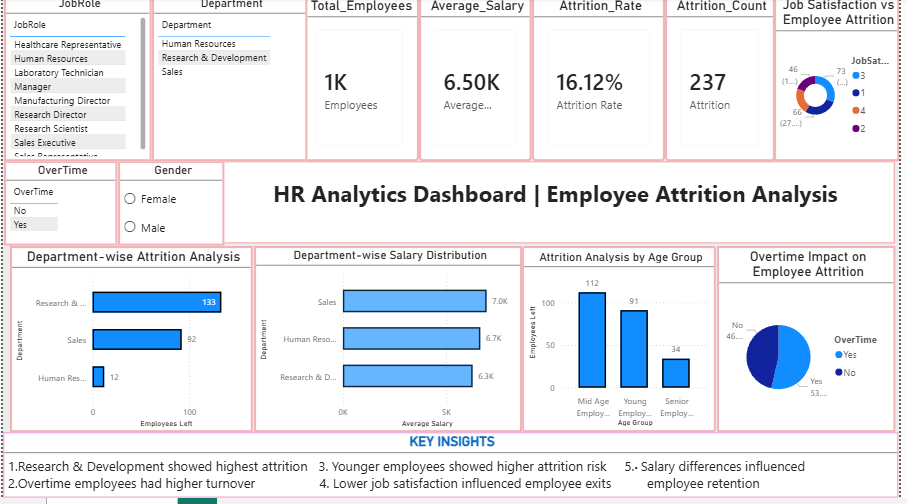

What the dashboard file says about the page in this screenshot:
{"tool":"powerbi","page":{"name":"Main Dashboard","canvas":[1280,720],"ordinal":0},"visuals":[{"type":"cardVisual","title":"Total_Employees","fields":{"Data":["Employee_Attrition.Total Employees"]},"box":[424.4,0,169.8,238.5],"z":0},{"type":"cardVisual","title":"Average_Salary","fields":{"Data":["Employee_Attrition.Average Salary"]},"box":[594.1,0,161,238.5],"z":1000},{"type":"cardVisual","title":"Attrition_Count","fields":{"Data":["Employee_Attrition.Attrition Count"]},"box":[945.4,0,156.6,238.5],"z":2000},{"type":"cardVisual","title":"Attrition_Rate","fields":{"Data":["Employee_Attrition.Attrition Rate"]},"box":[755.1,0,190.2,238.5],"z":3000},{"type":"textbox","box":[304.4,238.5,970,118],"z":4000},{"type":"clusteredBarChart","title":"Department-wise Attrition Analysis","fields":{"Category":["Employee_Attrition.Department"],"Y":["Employee_Attrition.Employees Left"]},"box":[10.2,360,346.8,266.3],"z":5000},{"type":"pieChart","title":"Overtime Impact on Employee Attrition","fields":{"Category":["Employee_Attrition.OverTime"],"Y":["Employee_Attrition.Employees Left"]},"box":[1020,360,254.6,266.3],"z":6000},{"type":"clusteredColumnChart","title":"Attrition Analysis by Age Group","fields":{"Category":["Employee_Attrition.Age Group"],"Y":["Employee_Attrition.Employees Left"]},"box":[742,360,276.6,266.3],"z":7000},{"type":"donutChart","title":"Job Satisfaction vs Employee Attrition","fields":{"Category":["Employee_Attrition.JobSatisfaction"],"Y":["Employee_Attrition.Employees Left"]},"box":[1102,0,178.5,238.5],"z":8000},{"type":"clusteredBarChart","title":"Department-wise Salary Distribution","fields":{"Category":["Employee_Attrition.Department"],"Y":["Employee_Attrition.Average Salary"]},"box":[358.5,360,383.4,266.3],"z":9000},{"type":"listSlicer","fields":{"Values":["Employee_Attrition.Gender"]},"box":[163.9,238.5,152.2,121],"z":10000},{"type":"tableEx","title":"Department","fields":{"Values":["Employee_Attrition.Department"]},"box":[212.2,0,222,238.5],"z":11000},{"type":"tableEx","title":"OverTime","fields":{"Values":["Employee_Attrition.OverTime"]},"box":[1.5,238.5,162.4,121.5],"z":12000},{"type":"tableEx","title":"JobRole","fields":{"Values":["Employee_Attrition.JobRole"]},"box":[1.5,0,210.7,238.5],"z":13000},{"type":"textbox","title":"KEY INSIGHTS","box":[0,626.3,1279,93.7],"z":14000}]}

Visuals, with their boxes in screenshot pixels (x1, y1, x2, y2), scaled from the page's 1280x720 canvas onto the 907x504 screenshot:
"Total_Employees" cardVisual: detection(301, 0, 421, 167)
"Average_Salary" cardVisual: detection(421, 0, 535, 167)
"Attrition_Count" cardVisual: detection(670, 0, 781, 167)
"Attrition_Rate" cardVisual: detection(535, 0, 670, 167)
textbox: detection(216, 167, 903, 250)
"Department-wise Attrition Analysis" clusteredBarChart: detection(7, 252, 253, 438)
"Overtime Impact on Employee Attrition" pieChart: detection(723, 252, 903, 438)
"Attrition Analysis by Age Group" clusteredColumnChart: detection(526, 252, 722, 438)
"Job Satisfaction vs Employee Attrition" donutChart: detection(781, 0, 906, 167)
"Department-wise Salary Distribution" clusteredBarChart: detection(254, 252, 526, 438)
listSlicer - Employee_Attrition.Gender: detection(116, 167, 224, 252)
"Department" tableEx: detection(150, 0, 308, 167)
"OverTime" tableEx: detection(1, 167, 116, 252)
"JobRole" tableEx: detection(1, 0, 150, 167)
"KEY INSIGHTS" textbox: detection(0, 438, 906, 503)
